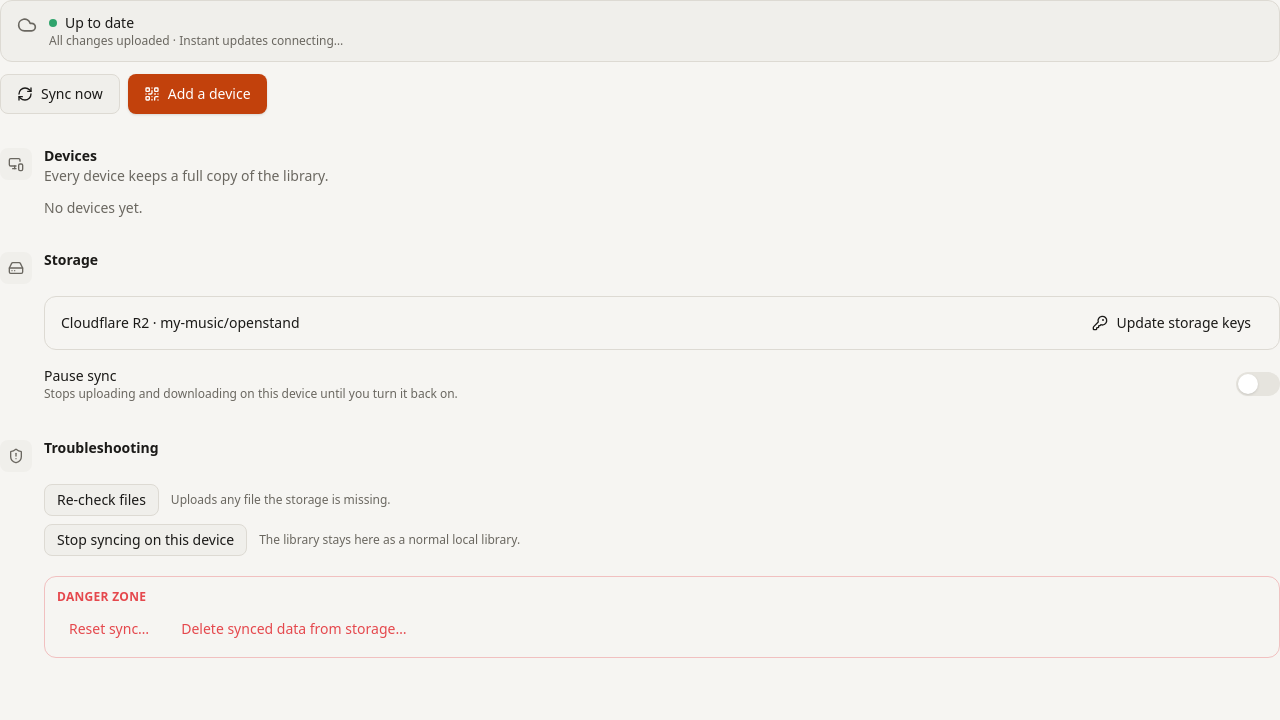
Scenario: Reset sync › says what it does and does not protect against
This screenshot has width=1280, height=720.
Click the button "Reset sync…".
click(109, 629)  # box [57,613,161,645]
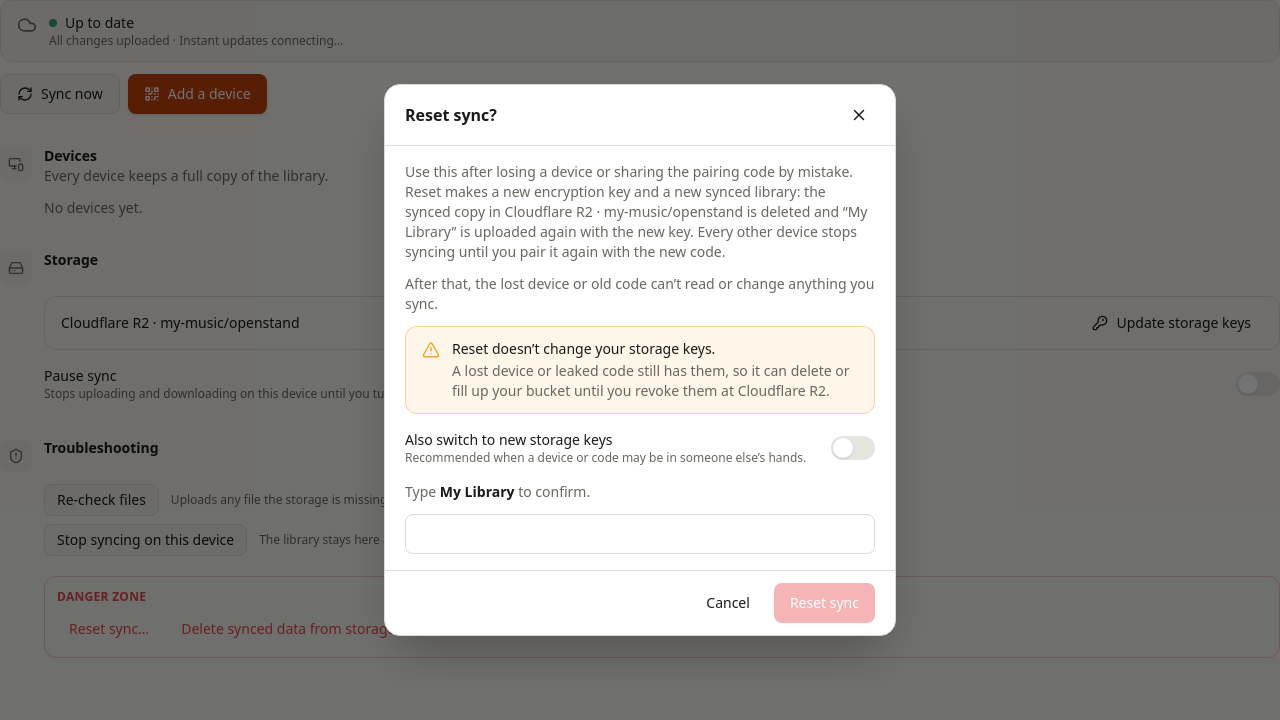
Now the text "Reset makes a new encryption key and a new synced library" is shown, box [405,162,853,221]
Now the text "Reset doesn’t change your storage keys." is shown, box [452,339,715,358]
Now the text "until you revoke them at Cloudflare R2" is shown, box [452,361,858,401]
